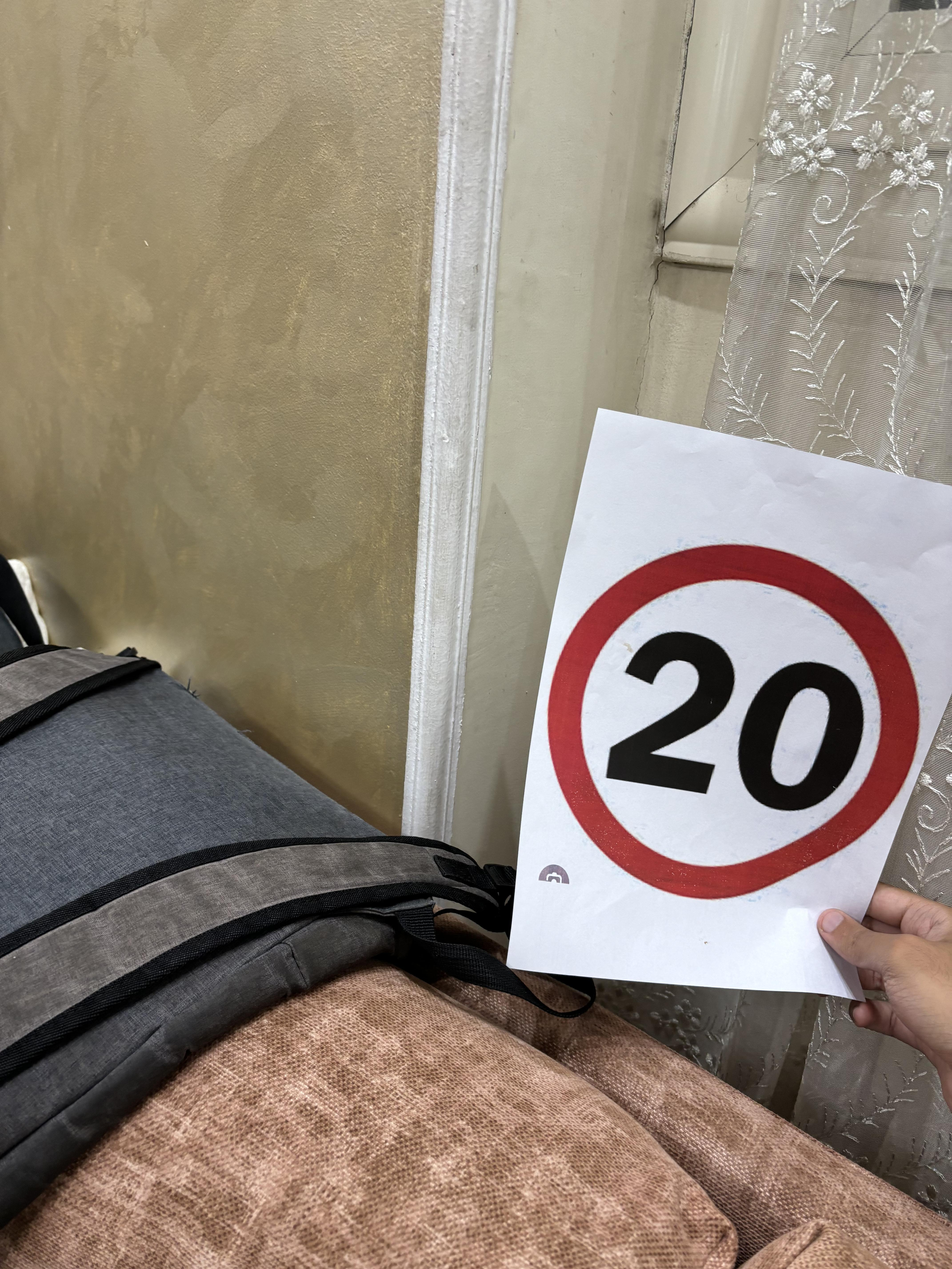20-Speed: (545, 545, 923, 895)
